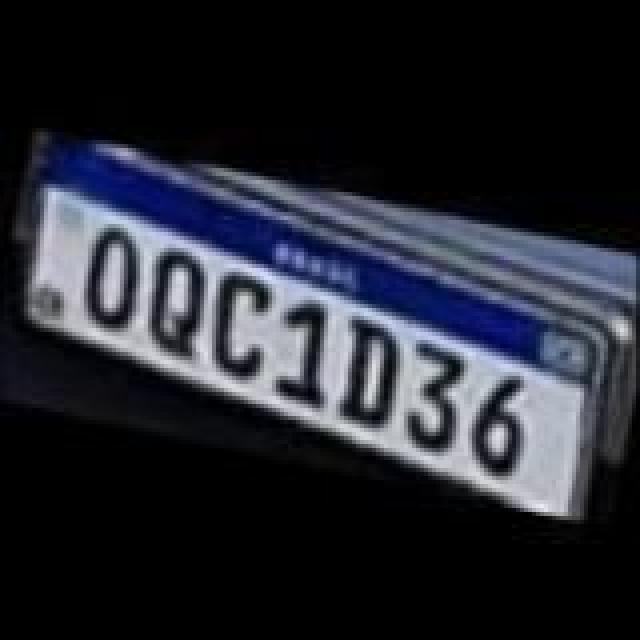1: (258, 284, 346, 412)
3: (388, 330, 476, 458)
6: (458, 358, 538, 474)
C: (196, 256, 280, 376)
D: (320, 302, 416, 430)
O: (70, 218, 154, 338)
Q: (128, 240, 220, 368)
